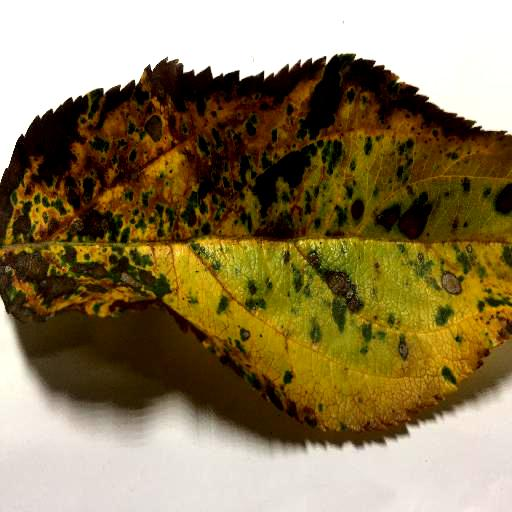Brown_Spot: (2, 51, 512, 451)
